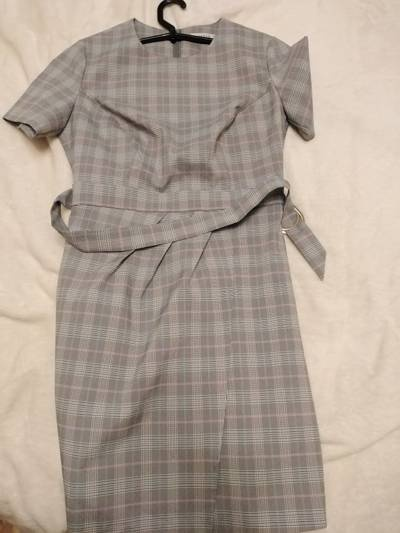Dress: (4, 12, 355, 528)
